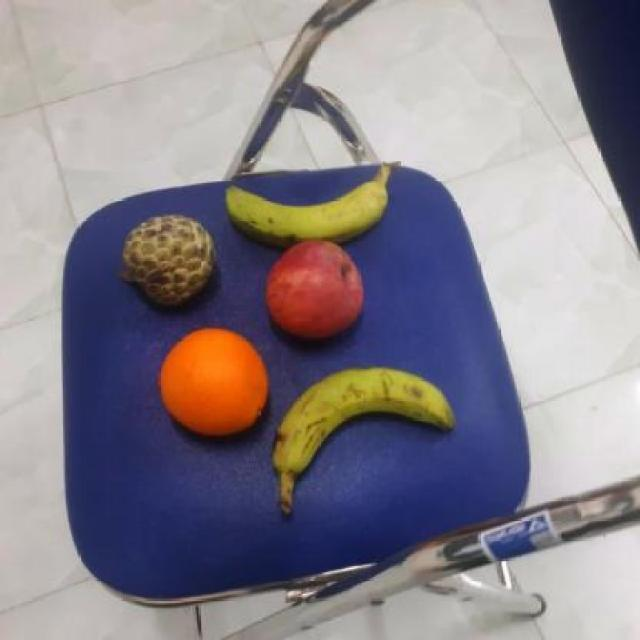apple: (259, 239, 370, 339)
banana: (273, 363, 459, 479), (223, 163, 397, 246)
oren: (154, 328, 274, 437)
sugar apple: (115, 209, 220, 306)
